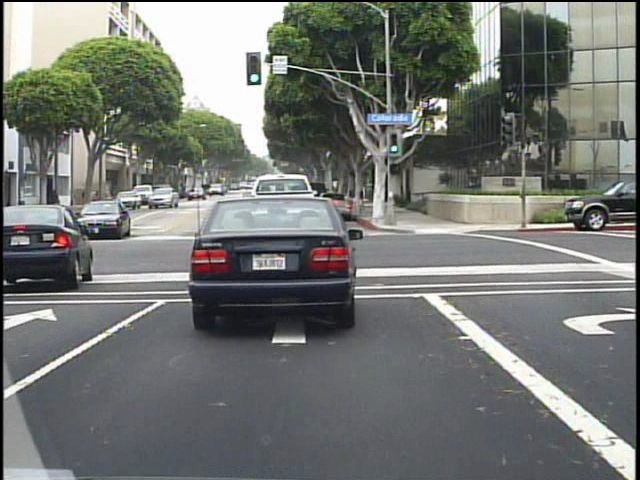person: (47, 187, 65, 220)
